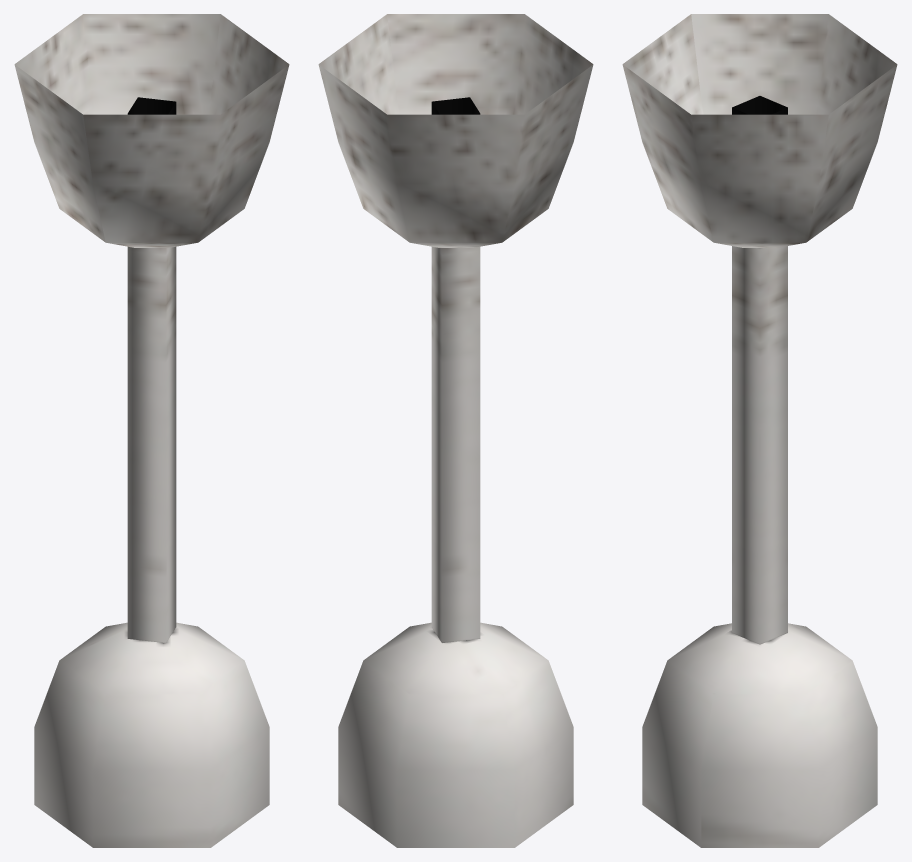
Rendered from Ceiling_Fan_01-col.glb.
3 views of the same model, side by side, from view 1: azimuth 30°, elevation 25°; view 2: azimuth 150°, elevation 25°; view 3: azimuth 270°, elevation 25° (orthographic).
Parts seen in each view (by area): view 1: Ceiling_Fan_01-col; view 2: Ceiling_Fan_01-col; view 3: Ceiling_Fan_01-col.
Part boxes in pixels (bbox=[...]): Ceiling_Fan_01-col: bbox=[14, 14, 289, 847]; Ceiling_Fan_01-col: bbox=[318, 14, 593, 847]; Ceiling_Fan_01-col: bbox=[622, 14, 897, 847].
Size of the model in its own units: 0.2035 by 0.6982 by 0.235.
Materials: 1 (1 with a texture image).
